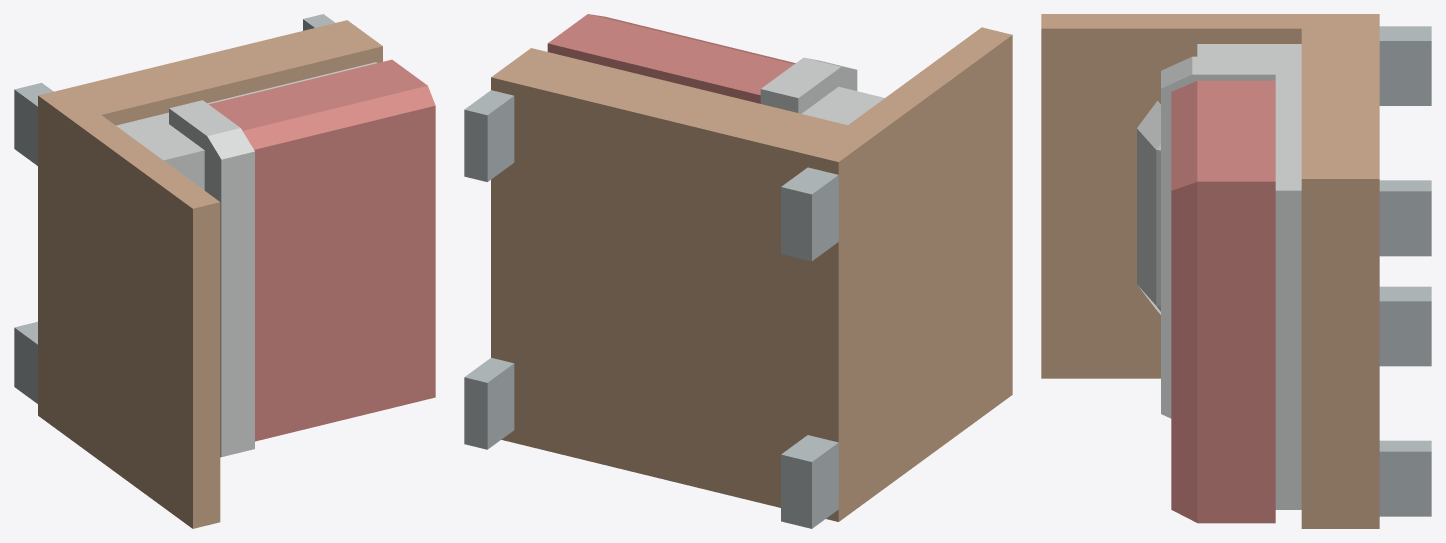
The model's file is bed-single.glb.
The picture shows the model from 3 angles, left to right: view 1: azimuth 30°, elevation 25°; view 2: azimuth 150°, elevation 25°; view 3: azimuth 270°, elevation 25°; orthographic projection. The views are drawn at different scales.
Visible parts, largest first — view 1: furniture/bed-single; view 2: furniture/bed-single; view 3: furniture/bed-single.
Part boxes in pixels (left/top/right/bottom): furniture/bed-single: left=14, top=14, right=435, bottom=528; furniture/bed-single: left=464, top=14, right=1012, bottom=528; furniture/bed-single: left=1041, top=14, right=1431, bottom=528.
Size of the model in its own units: 1 by 1 by 1.
